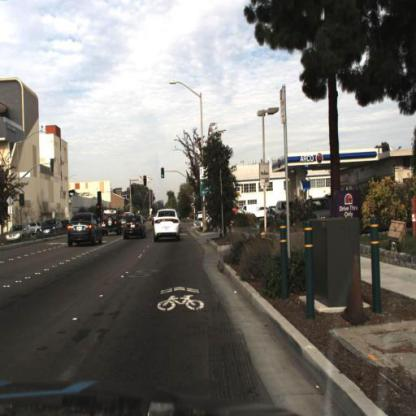car: (68, 213, 104, 251), (152, 206, 181, 245), (38, 212, 65, 246), (122, 213, 147, 242), (102, 207, 122, 238), (40, 217, 63, 237), (254, 201, 273, 224)
trafficLight-Green: (159, 167, 167, 183)
trafficLight-Red: (141, 174, 148, 192), (130, 184, 136, 198)
